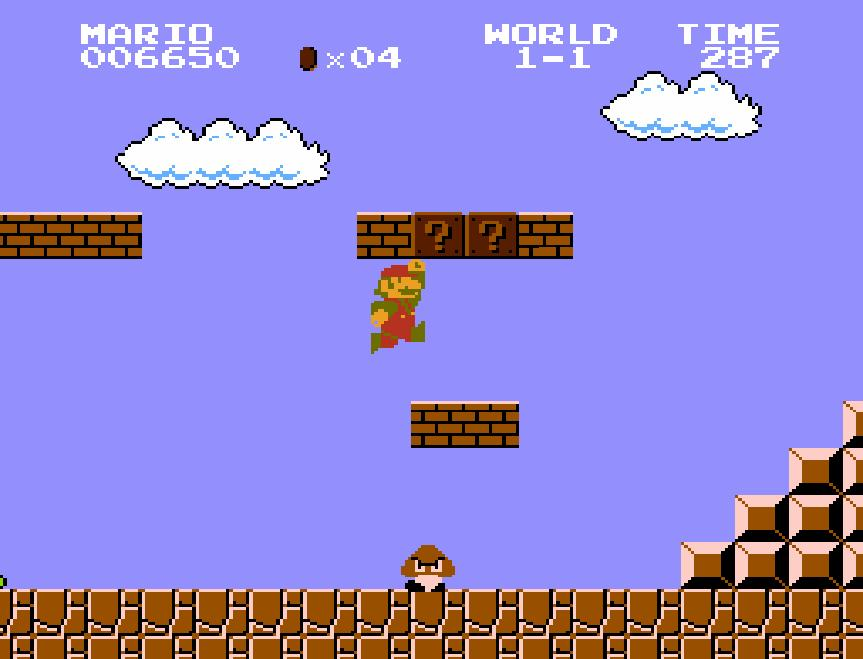big_mario: (368, 257, 426, 355)
